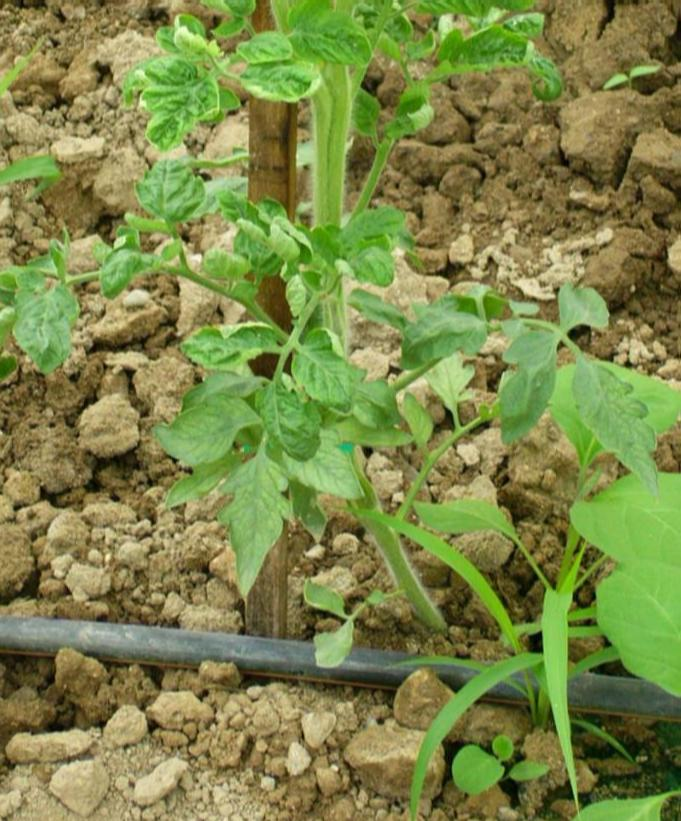Tomato leaf: (561, 359, 669, 485), (217, 427, 295, 599), (125, 57, 217, 149), (271, 0, 385, 69), (485, 321, 559, 427), (3, 277, 81, 377), (139, 153, 207, 237)
